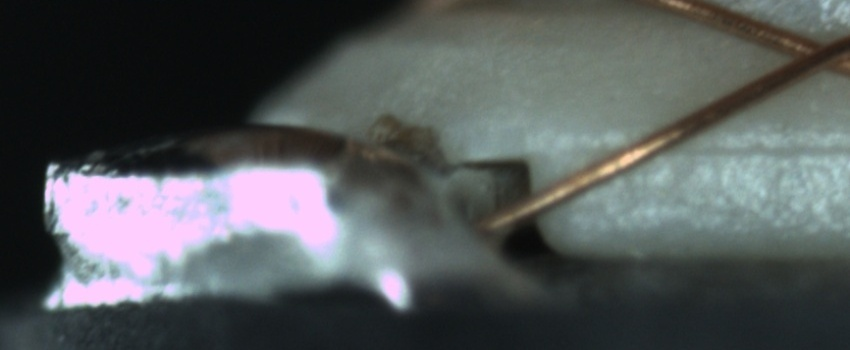CL: (761, 24, 845, 87)
DL: (569, 114, 845, 181)
